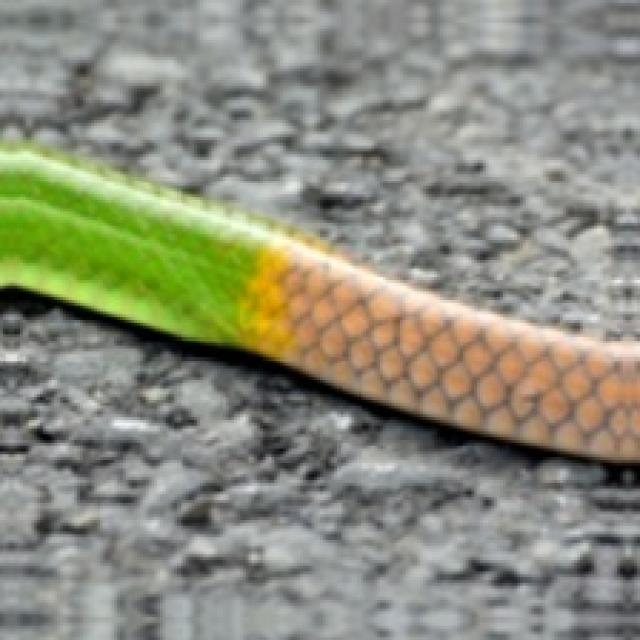red-tailed green ratsnake: (0, 143, 637, 463)
